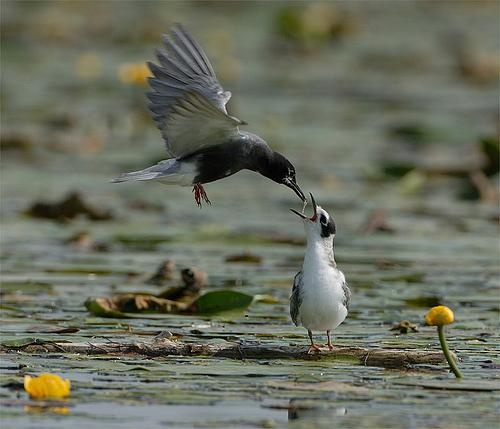bird: (107, 20, 311, 210), (289, 191, 359, 354)
